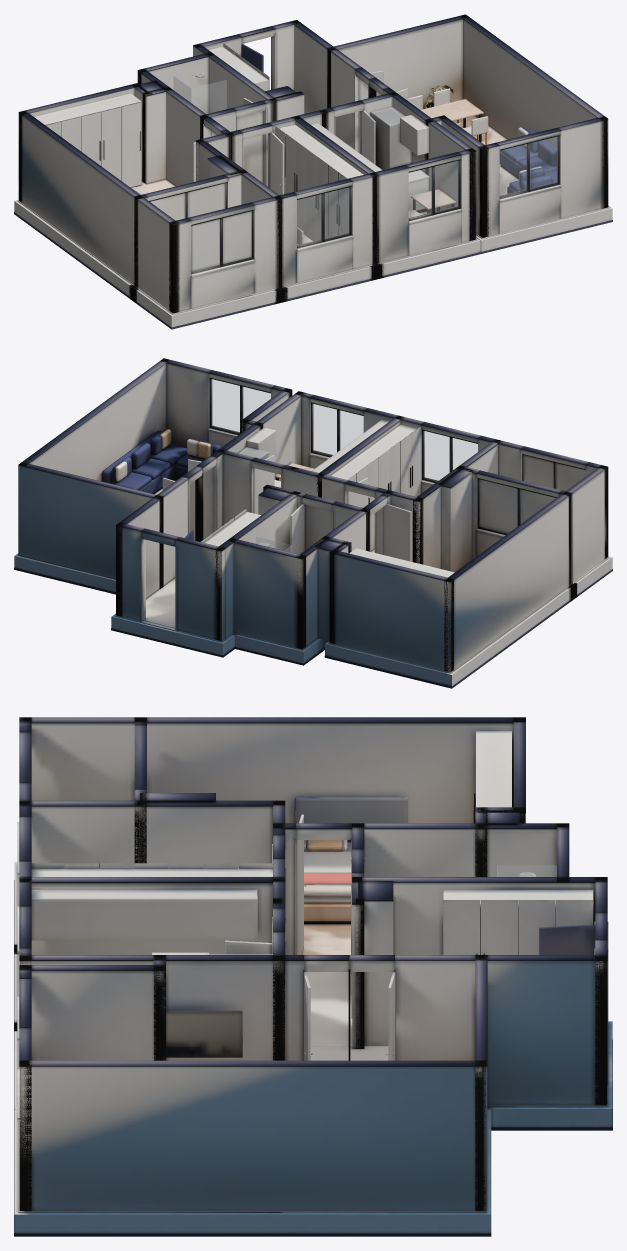
The picture shows the model from 3 angles, top to bottom: view 1: azimuth 30°, elevation 25°; view 2: azimuth 150°, elevation 25°; view 3: azimuth 270°, elevation 25°; orthographic projection. The views are drawn at different scales.
Parts seen in each view (by area): view 1: plan, glass1_m, glass4_m, glass2_m, glass3_m, sg.001_m; view 2: plan, glass0_m, glass4_m, glass3_m, glass2_m; view 3: plan.
Part boxes in pixels (bbox=[...]): plan: bbox=[14, 14, 612, 329]; glass1_m: bbox=[192, 212, 251, 271]; glass4_m: bbox=[500, 137, 557, 196]; glass2_m: bbox=[297, 187, 349, 245]; glass3_m: bbox=[409, 161, 458, 218]; sg.001_m: bbox=[191, 80, 226, 113]; plan: bbox=[14, 358, 612, 688]; glass0_m: bbox=[480, 480, 555, 532]; glass4_m: bbox=[211, 379, 270, 432]; glass3_m: bbox=[313, 404, 363, 455]; glass2_m: bbox=[424, 431, 477, 480]; plan: bbox=[14, 717, 612, 1236].
Bounding box in the file's own units: 11.8 × 2.62 × 8.46.
Materials: 2 (1 with a texture image).
